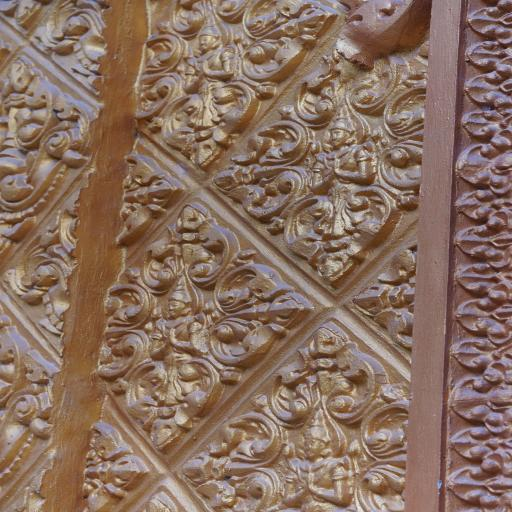la: (0, 54, 93, 223), (278, 184, 402, 291), (1, 185, 88, 337), (209, 256, 324, 367), (270, 319, 389, 426), (173, 411, 299, 512), (112, 354, 234, 452), (130, 199, 252, 291), (209, 118, 314, 223), (275, 41, 406, 125), (240, 0, 344, 84), (162, 83, 262, 168), (0, 316, 61, 452), (346, 385, 411, 512), (107, 146, 190, 243), (82, 284, 158, 383), (33, 0, 102, 100), (358, 249, 422, 355), (80, 422, 154, 512), (384, 80, 430, 204), (135, 34, 188, 120), (437, 462, 512, 512), (448, 371, 512, 425), (452, 290, 512, 340), (440, 423, 512, 463), (455, 140, 512, 188), (166, 0, 252, 31), (451, 221, 512, 263), (448, 333, 512, 372), (449, 260, 512, 296), (455, 186, 512, 222), (458, 103, 512, 140), (461, 67, 512, 106), (467, 2, 512, 38), (466, 36, 512, 68)
than: (272, 402, 364, 512), (301, 105, 383, 201), (135, 284, 220, 367), (183, 17, 241, 97)
